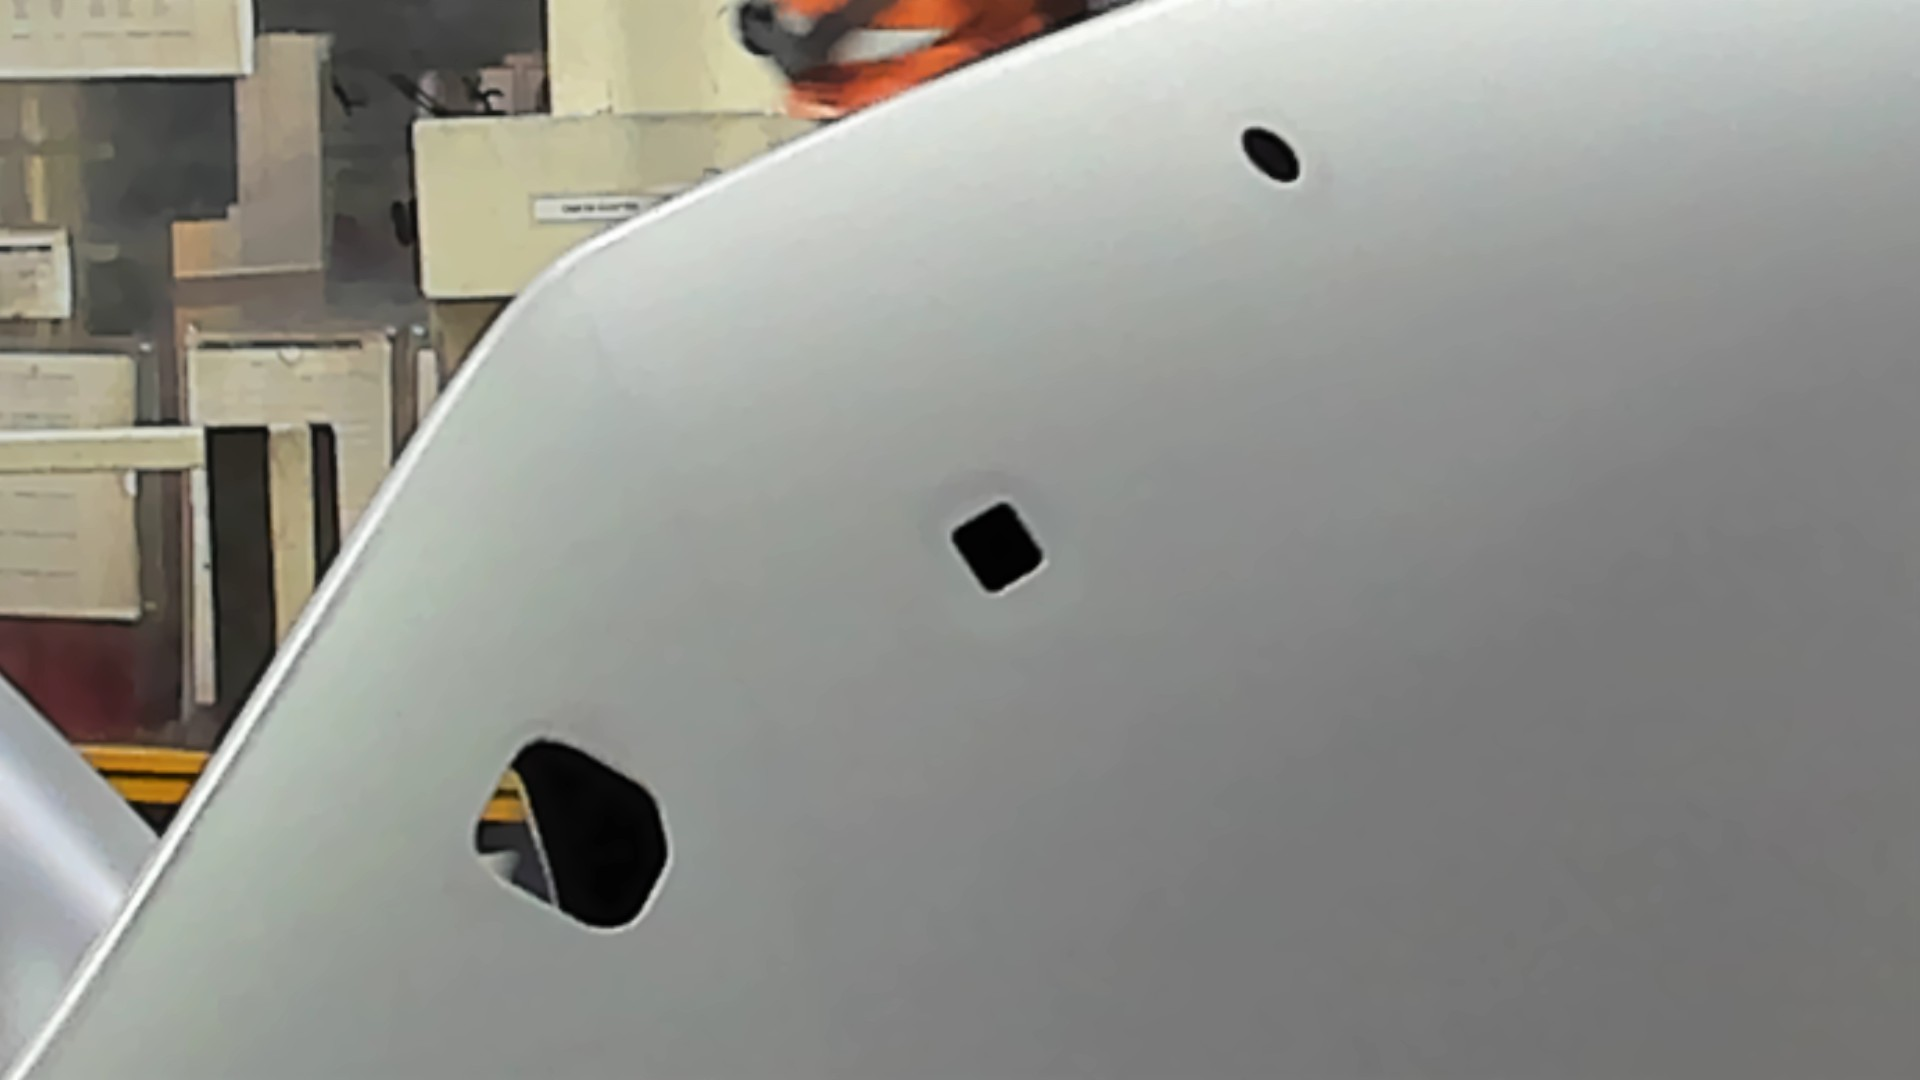capo: (1054, 193, 1920, 1079)
chico: (1234, 119, 1307, 187)
grande: (465, 727, 674, 939)
mediano: (942, 491, 1051, 604)
